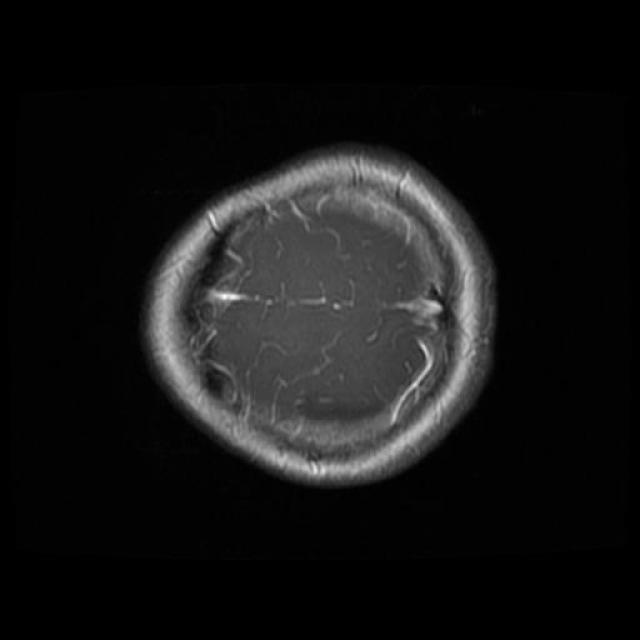Glioma: (281, 403, 396, 448)
